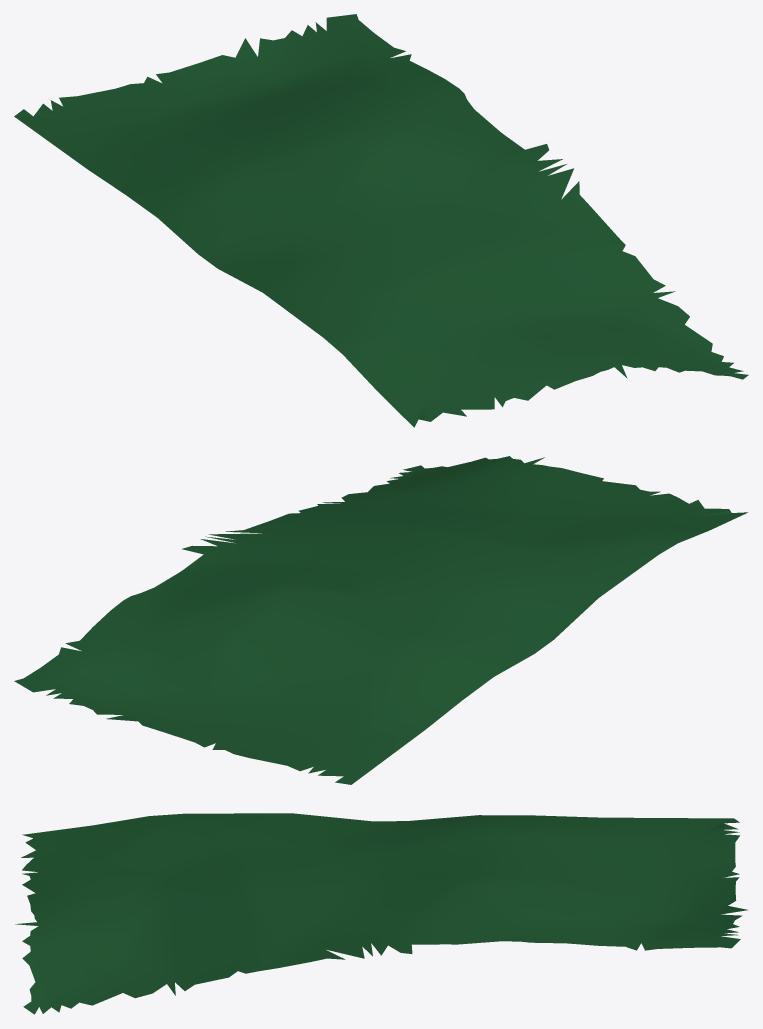
The model's file is payo_land_x4_y1_lod2.glb.
The picture shows the model from 3 angles, top to bottom: view 1: azimuth 30°, elevation 25°; view 2: azimuth 150°, elevation 25°; view 3: azimuth 270°, elevation 25°; orthographic projection. The views are drawn at different scales.
Visible parts, largest first — view 1: payo_land_x4_y1; view 2: payo_land_x4_y1; view 3: payo_land_x4_y1.
Boxes of the visible parts, <box> form: payo_land_x4_y1: <box>14,14,748,427</box>; payo_land_x4_y1: <box>14,456,747,784</box>; payo_land_x4_y1: <box>15,813,747,1014</box>.
Size of the model in its own units: 132 by 32.09 by 267.
